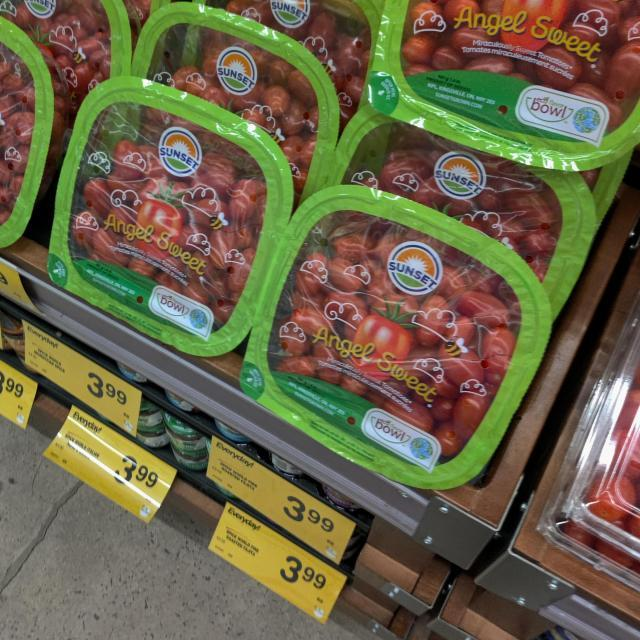tomato: (255, 194, 560, 498), (61, 85, 296, 356), (376, 0, 639, 167), (0, 0, 53, 250)
